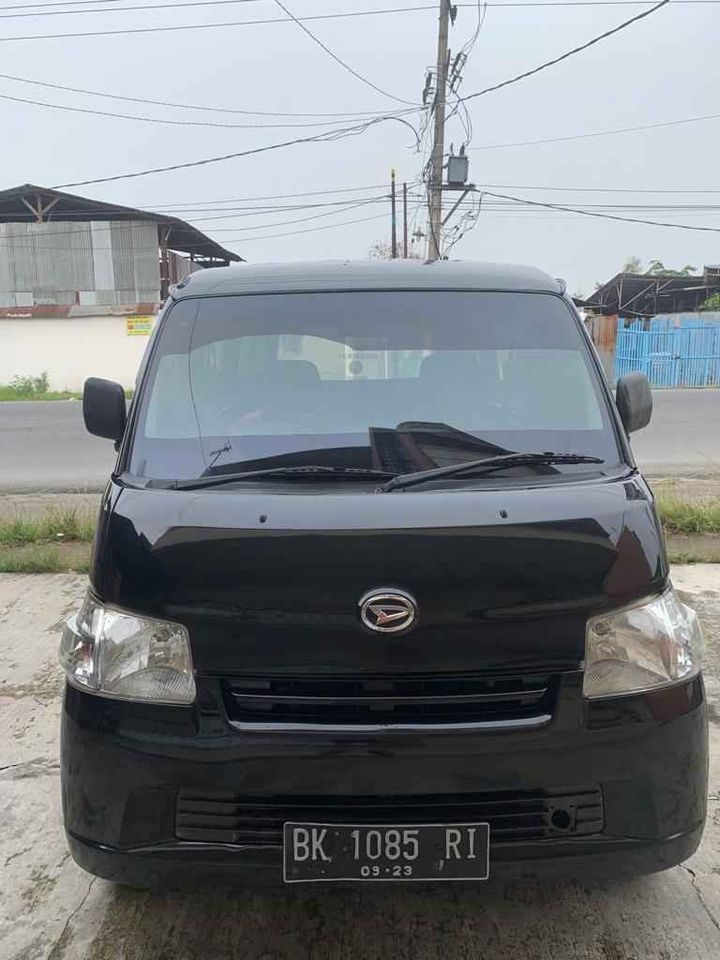plate: (275, 809, 501, 889)
